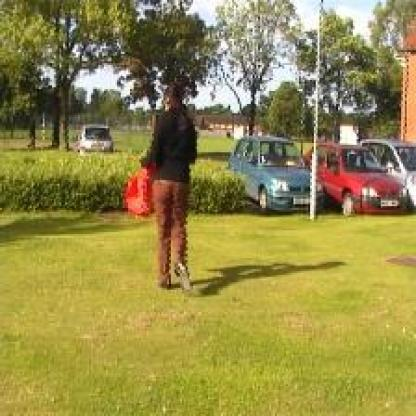other: (110, 158, 153, 214)
